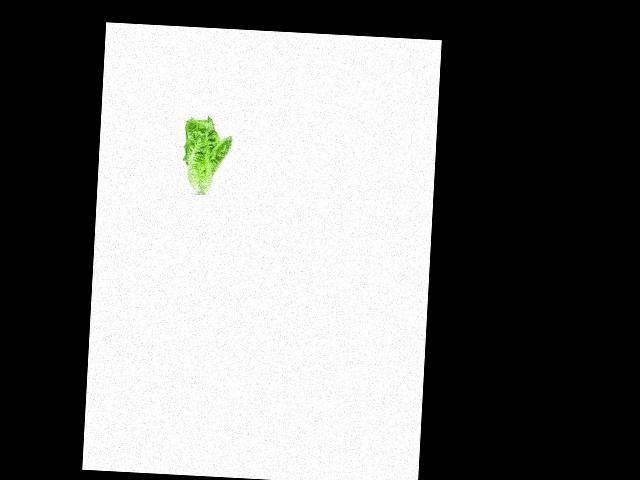lettuce: (178, 114, 233, 192)
